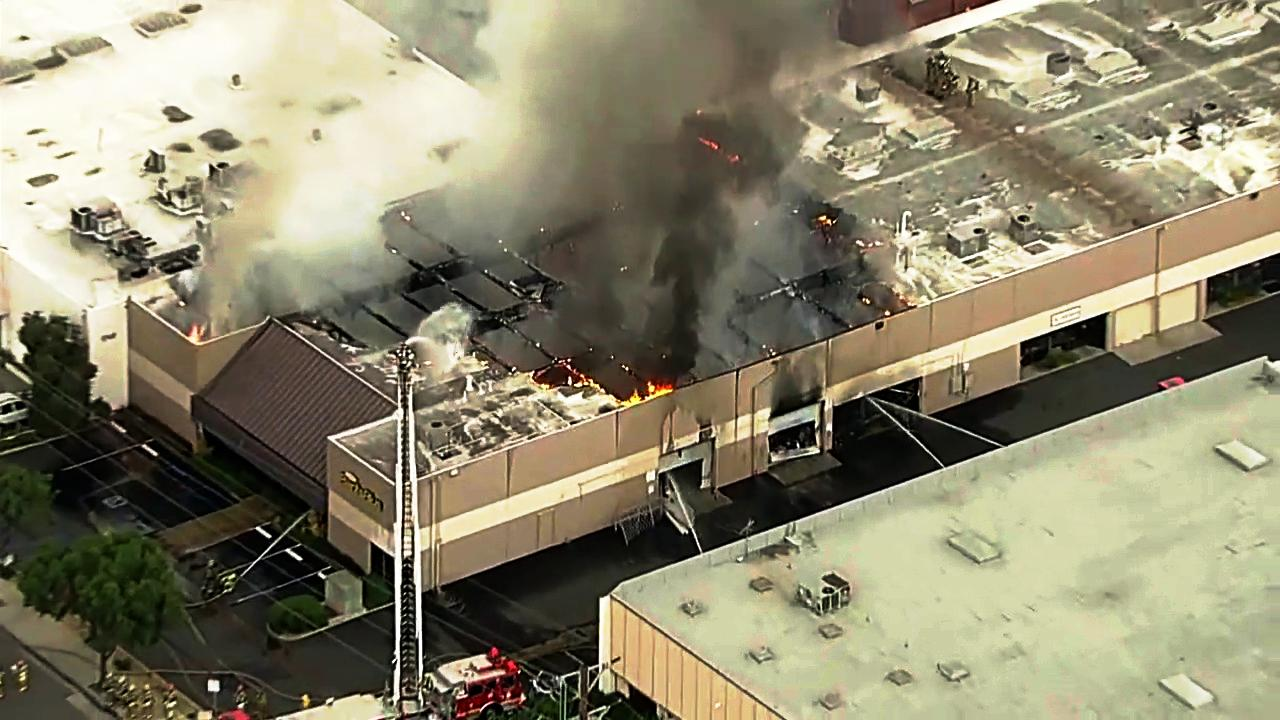smoke: (597, 87, 727, 355)
